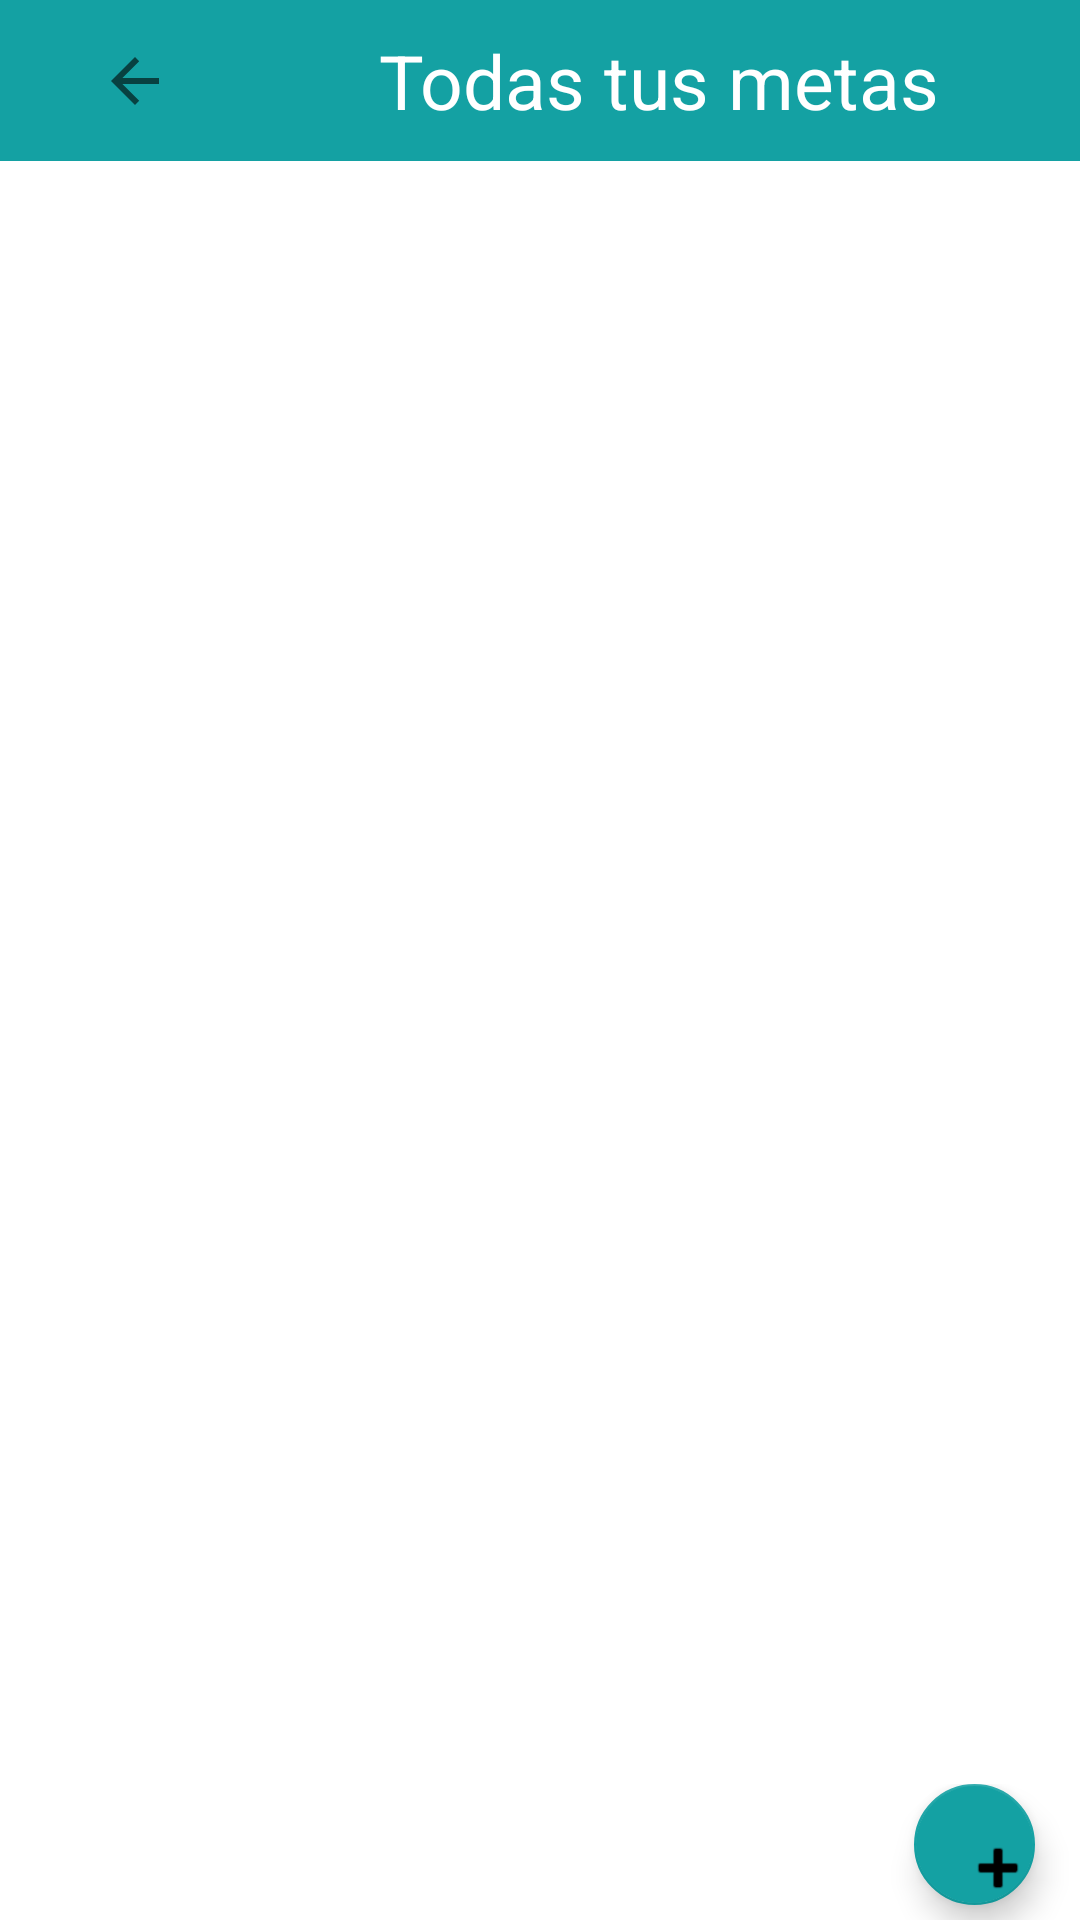

Screen size 1080px×1920px. Icon name, then its center in pixels as (x=x, y=y):
add: (x=974, y=1844)
